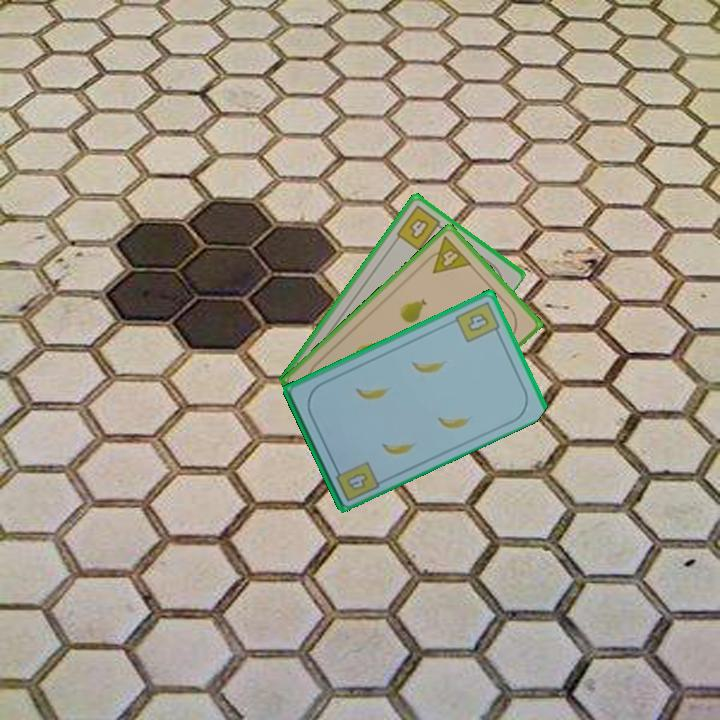4b: (393, 202, 447, 254), (451, 298, 503, 345), (331, 458, 382, 504)
4p: (420, 232, 475, 276)
